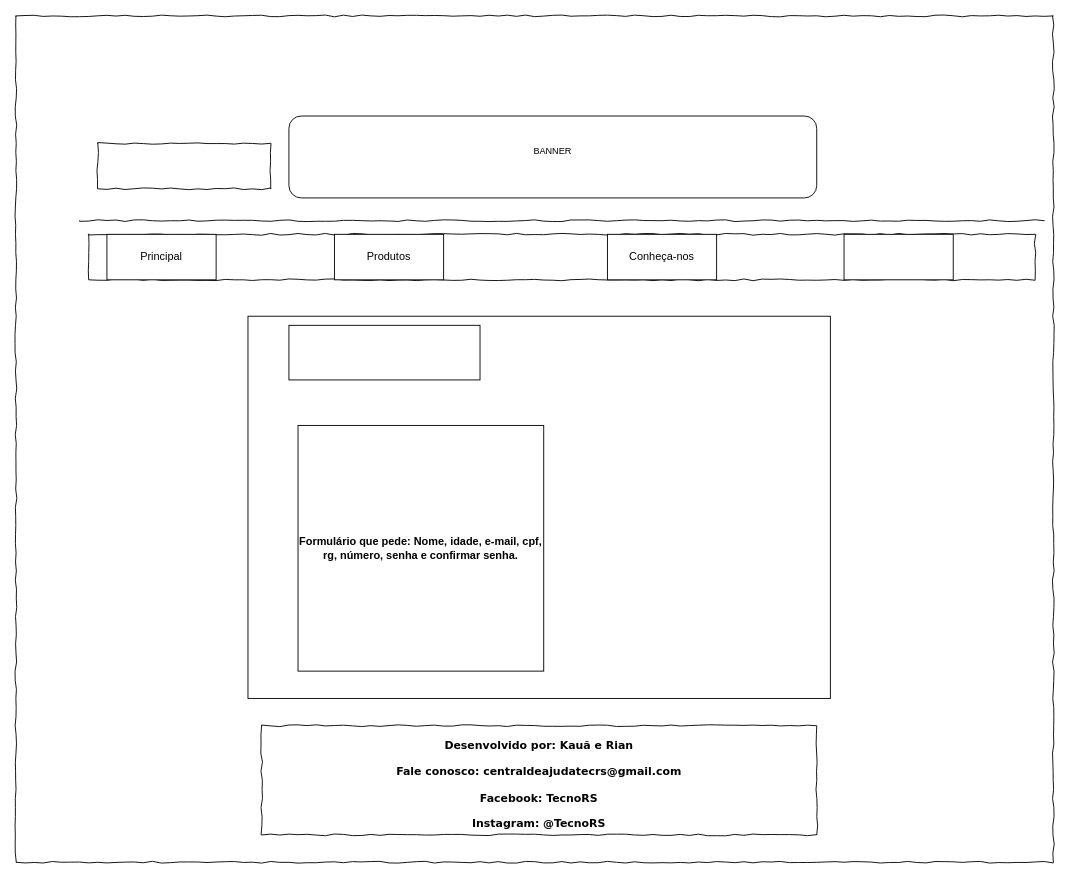
This 1069x878 diagram has some shape labels left out. Each missing label, with the centre of its shape:
"Cartão Da Loja" goes at [898,256].
"Preencha para fazer o seu cartão" goes at [384,352].
"TecnoRS" goes at [184,165].
